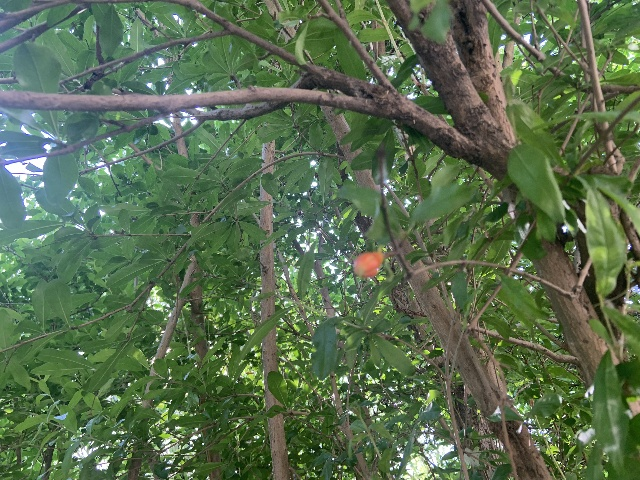bud: (353, 251, 382, 278)
